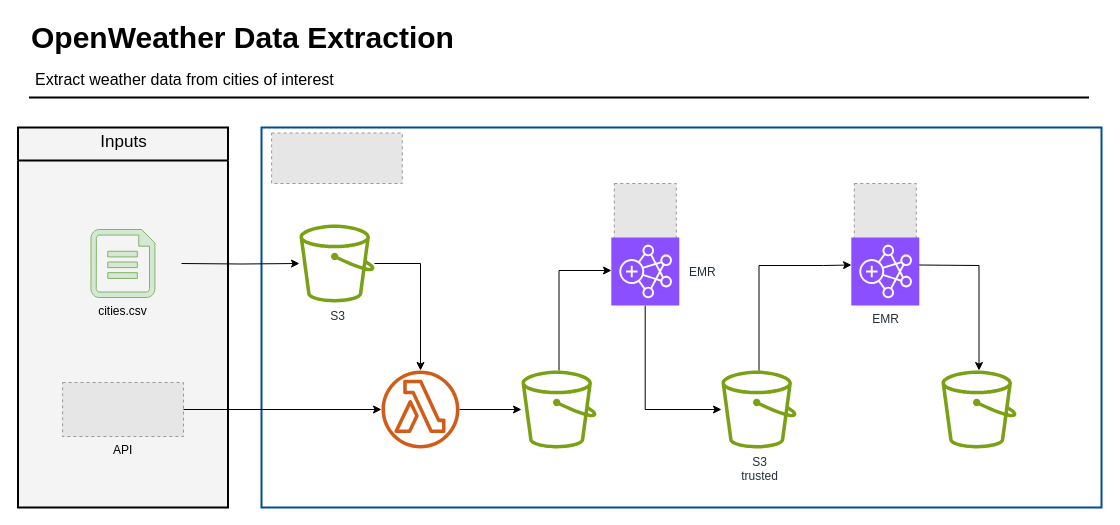
Image size: 1120x525. Some labels were removed from this diagram. Grey dashed boxes stand in for pictures. The shapes that lost their labels are listed below. From the top down, each one's box as (x1, y1, x2, y2) in pixels, then its label:
(381, 370, 459, 448): Lamdba handler
(521, 370, 596, 448): S3 raw
(941, 370, 1016, 448): S3 business
